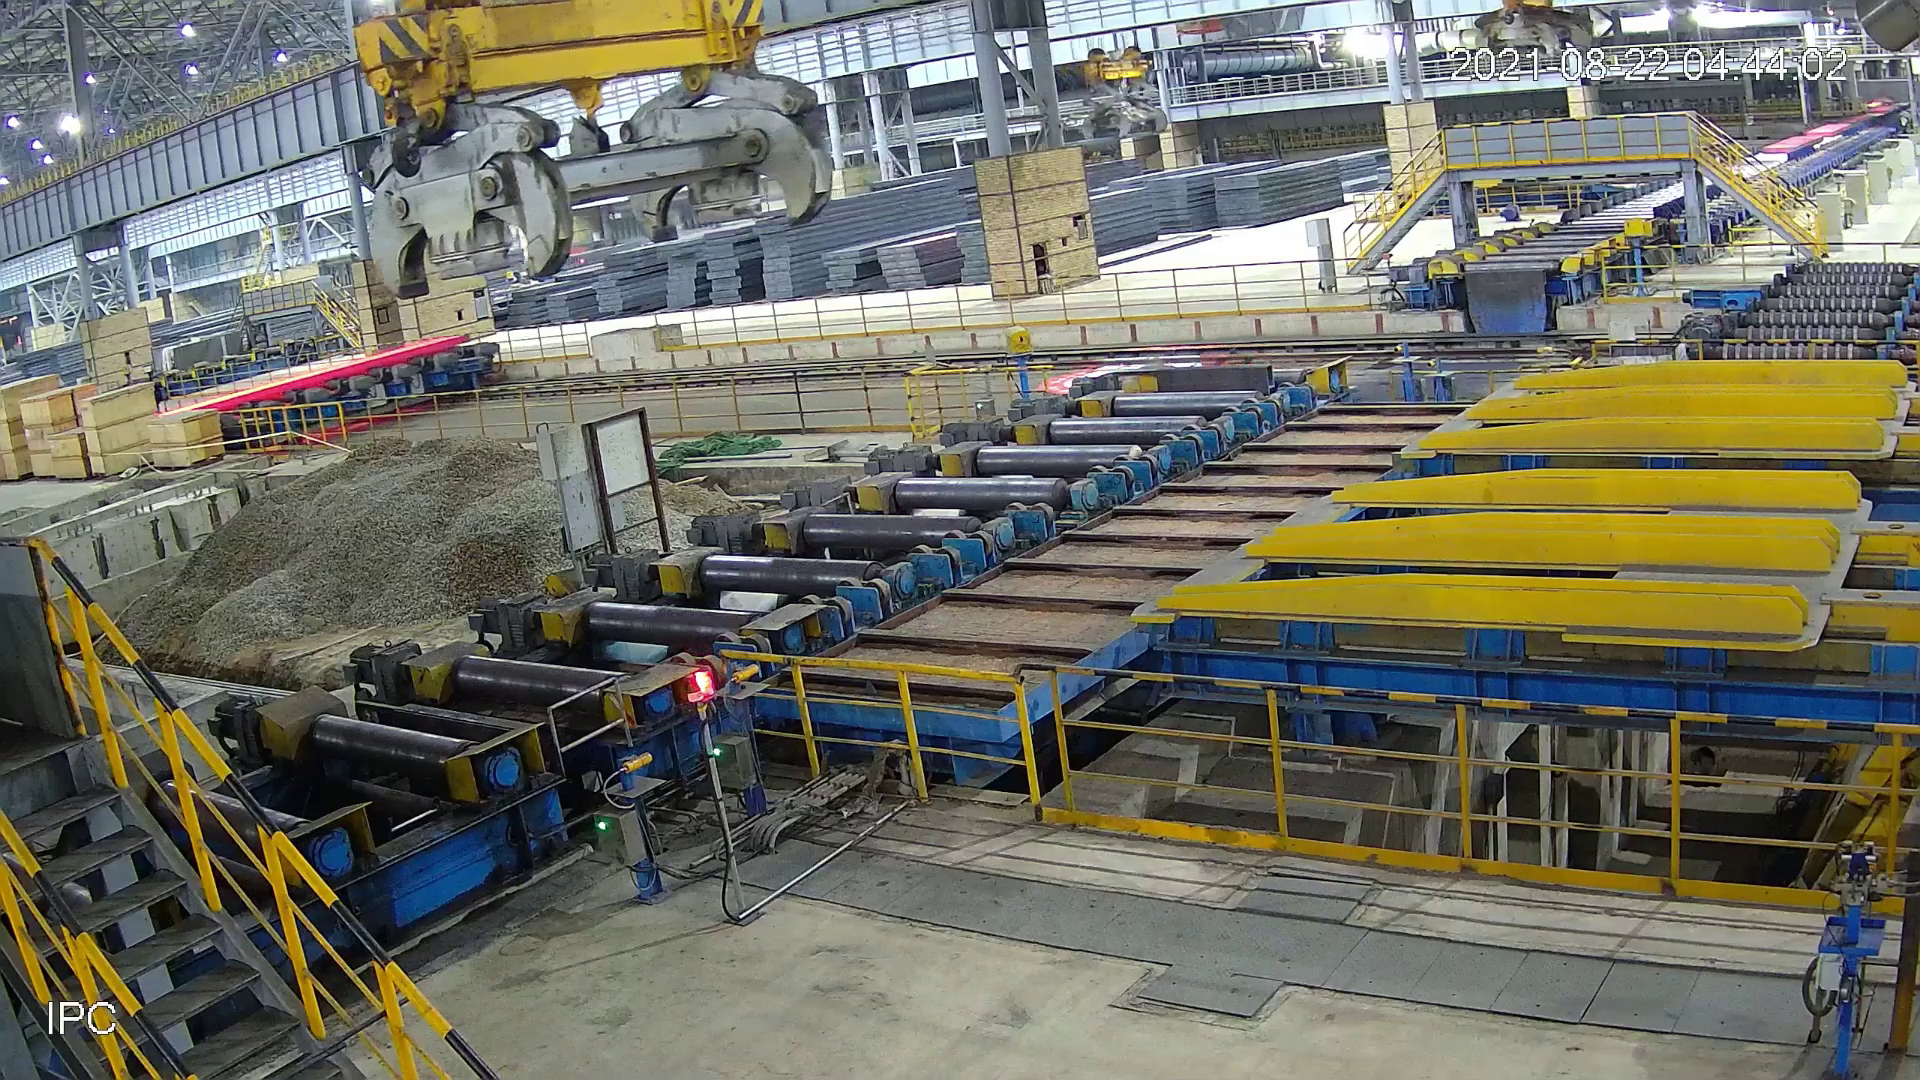crane: (334, 1, 858, 310), (1462, 3, 1613, 73)
